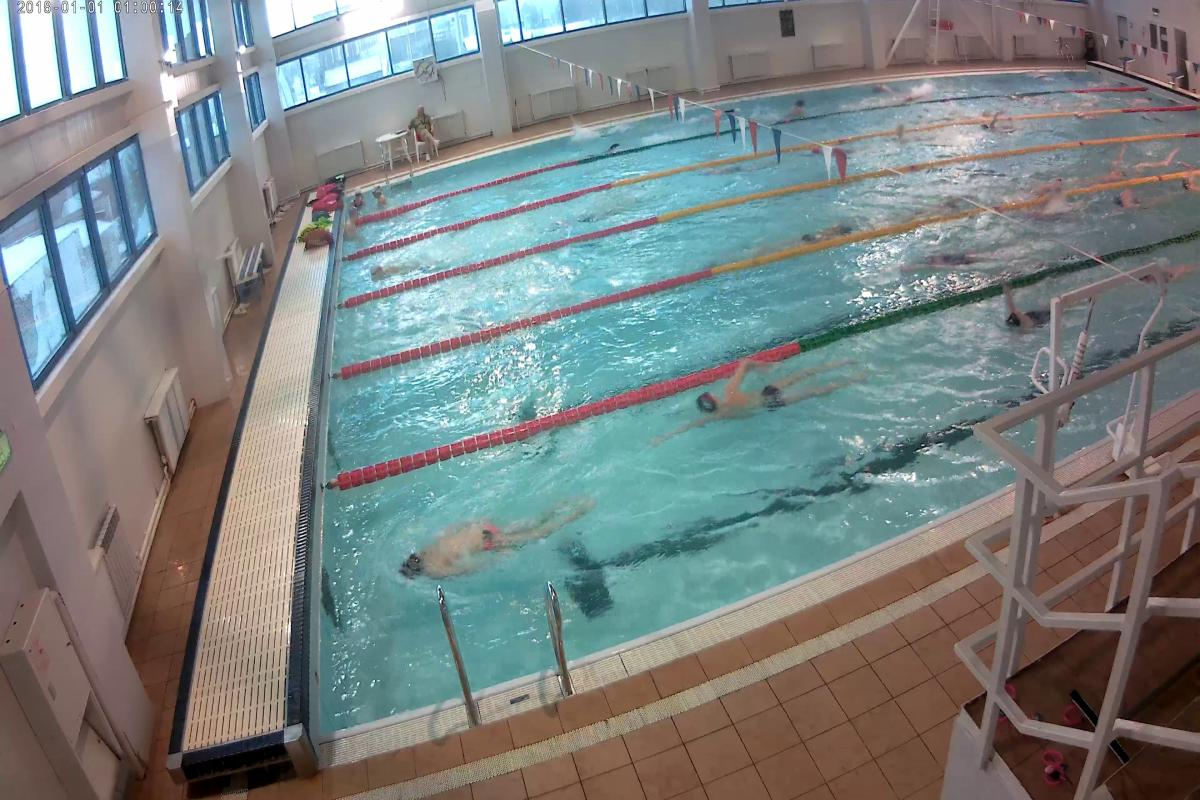swimmer: (397, 506, 591, 568), (666, 362, 848, 421), (914, 241, 988, 274), (1134, 255, 1192, 294), (1002, 298, 1056, 337), (796, 216, 866, 240), (1102, 179, 1146, 215), (1012, 191, 1056, 222)
